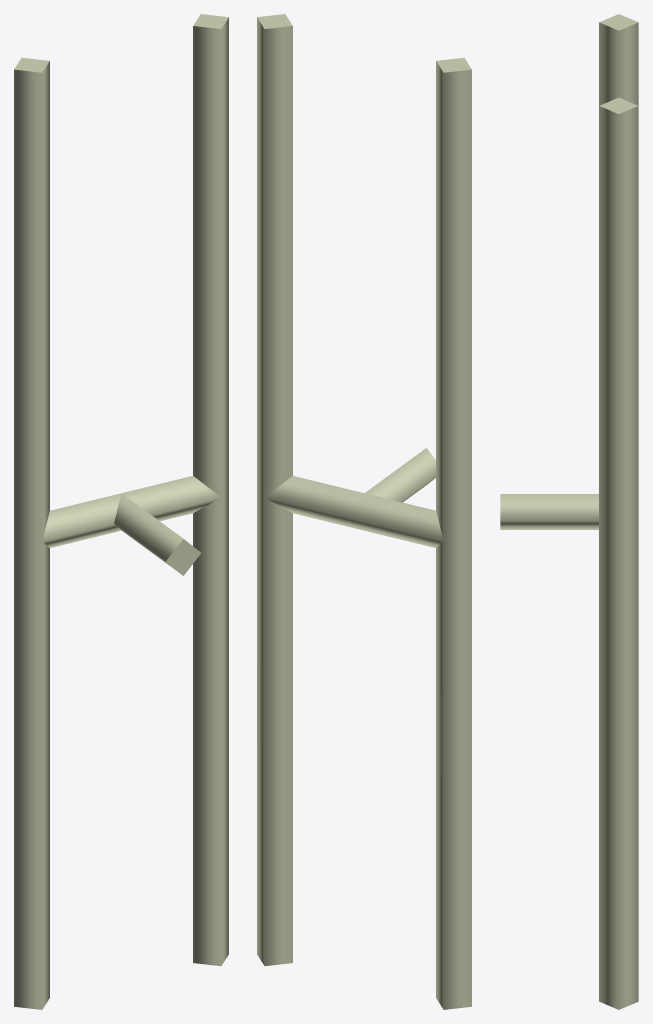
File: aquila_ladder_srf_1.obj
3 renders of one model, left to right at view 1: azimuth 30°, elevation 25°; view 2: azimuth 150°, elevation 25°; view 3: azimuth 270°, elevation 25°, orthographic. The views are drawn at different scales.
Parts seen in each view (by area): view 1: Cylinder1; view 2: Cylinder1; view 3: Cylinder1.
Boxes of the visible parts, <box> form: Cylinder1: <box>14,14,228,1009</box>; Cylinder1: <box>257,14,471,1009</box>; Cylinder1: <box>500,14,638,1009</box>.
Bounding box in the file's own units: 0.15 × 0.625 × 0.0875.
